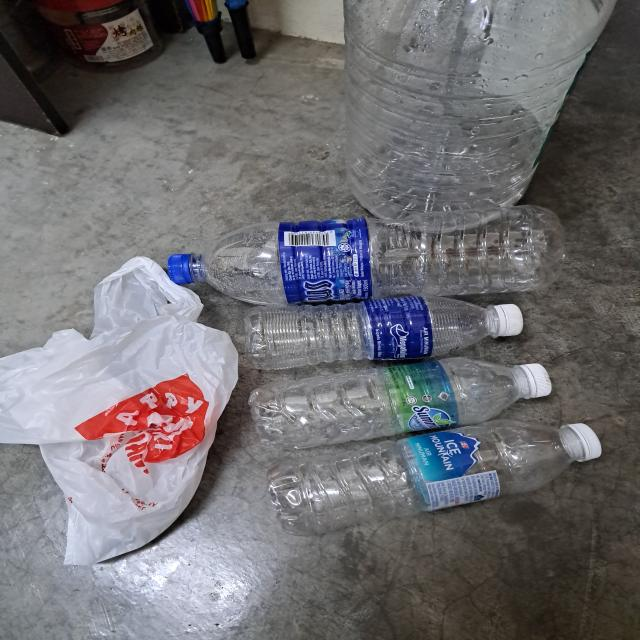plastic bag: (0, 260, 235, 564)
plastic bottle: (340, 0, 605, 232), (258, 422, 572, 537), (203, 205, 569, 302), (244, 356, 532, 444), (230, 294, 502, 364)
plastic bottle cap: (566, 419, 604, 466), (489, 300, 530, 343), (510, 364, 558, 399), (170, 247, 200, 286)
